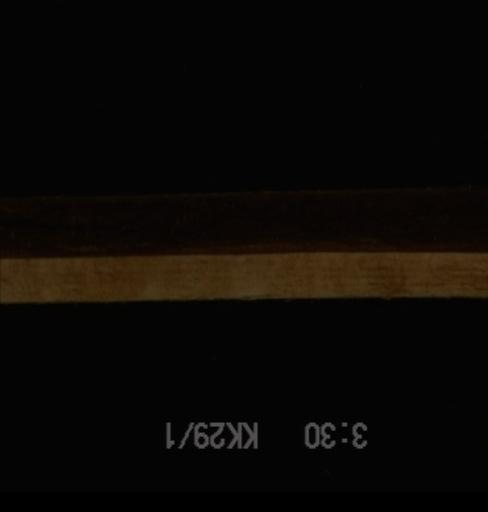wave: (0, 189, 486, 260)
